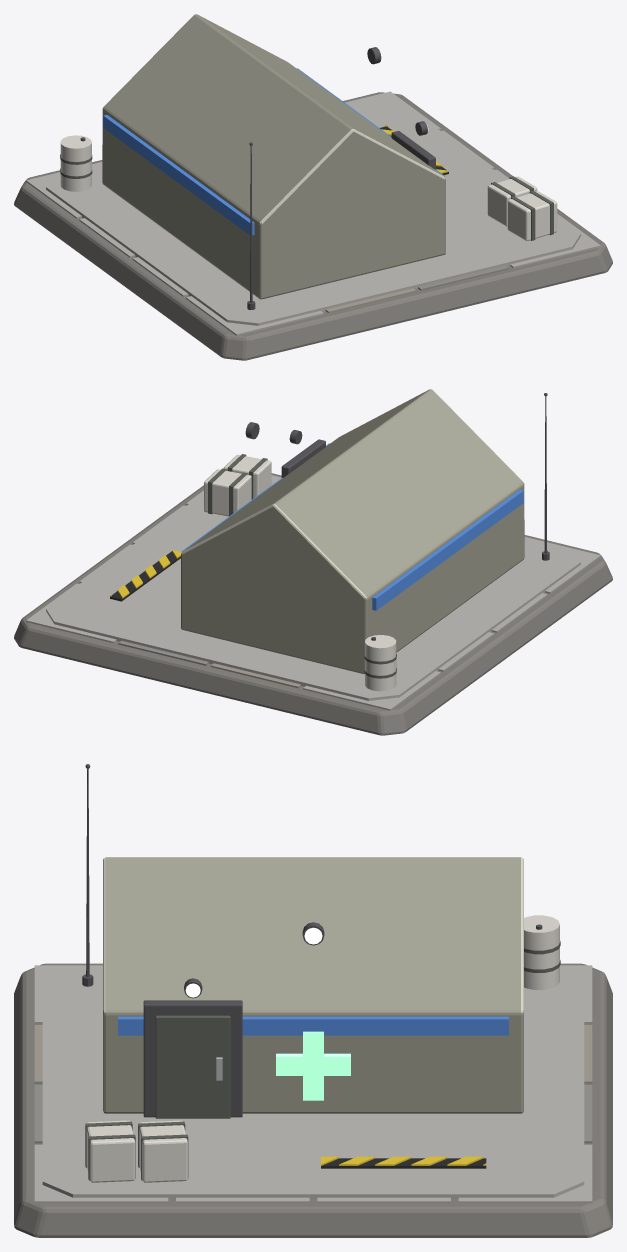
The model's file is field_hospital_blue.glb.
3 views of the same model, one above another, from view 1: azimuth 30°, elevation 25°; view 2: azimuth 150°, elevation 25°; view 3: azimuth 270°, elevation 25° (orthographic). The views are drawn at different scales.
Parts seen in each view (by area): view 1: Body; view 2: Body; view 3: Body.
Boxes of the visible parts, bbox=[...] form: Body: bbox=[14, 14, 612, 360]; Body: bbox=[14, 389, 612, 735]; Body: bbox=[14, 764, 612, 1237].
Bounding box in the file's own units: 3.98 × 1.86 × 3.98.
1 material, 1 textured.
